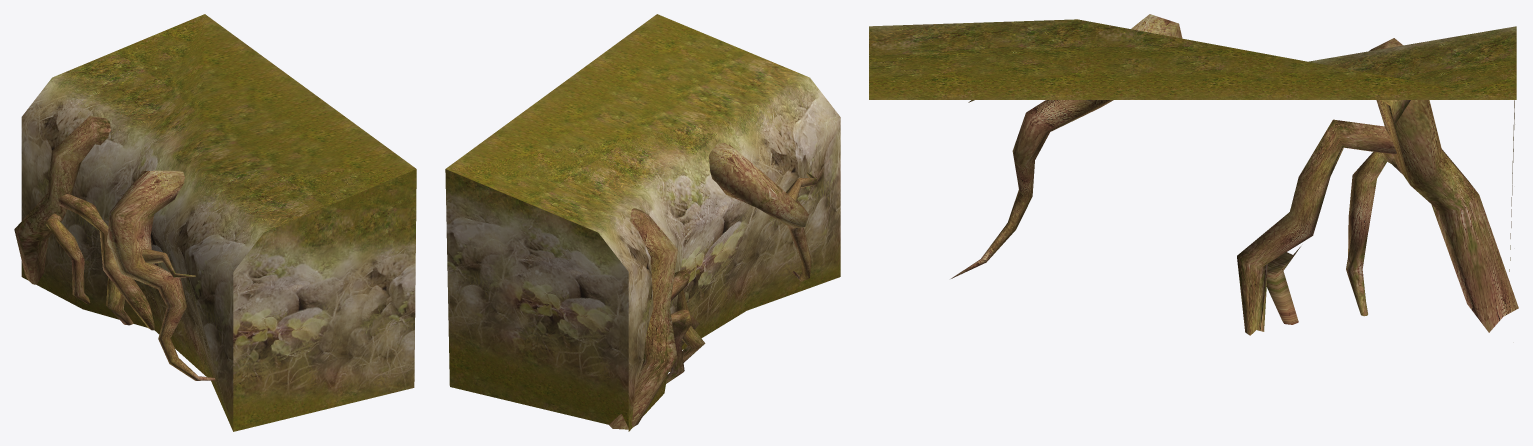
The model's file is n_tilewallB_6.glb.
3 renders of one model, left to right at view 1: azimuth 30°, elevation 25°; view 2: azimuth 150°, elevation 25°; view 3: azimuth 270°, elevation 25°, orthographic. The views are drawn at different scales.
Visible parts, largest first — view 1: n_tilewallB_6; view 2: n_tilewallB_6; view 3: n_tilewallB_6.
Boxes of the visible parts, x1,y1,x2,y2 form: n_tilewallB_6: (14, 14, 416, 431); n_tilewallB_6: (445, 14, 840, 431); n_tilewallB_6: (869, 14, 1518, 335).
Bounding box in the file's own units: 3.63 × 3.41 × 6.02.
Materials: 2 (2 with a texture image).
